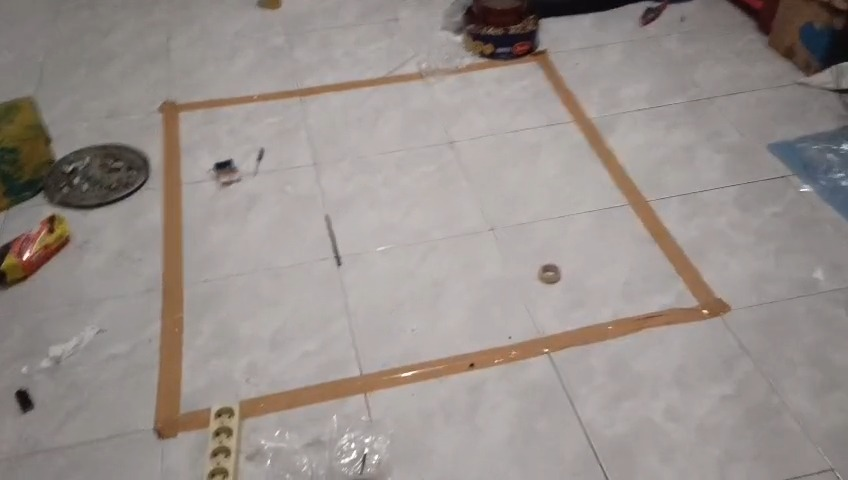floor marking: (240, 51, 730, 417), (154, 75, 423, 438)
